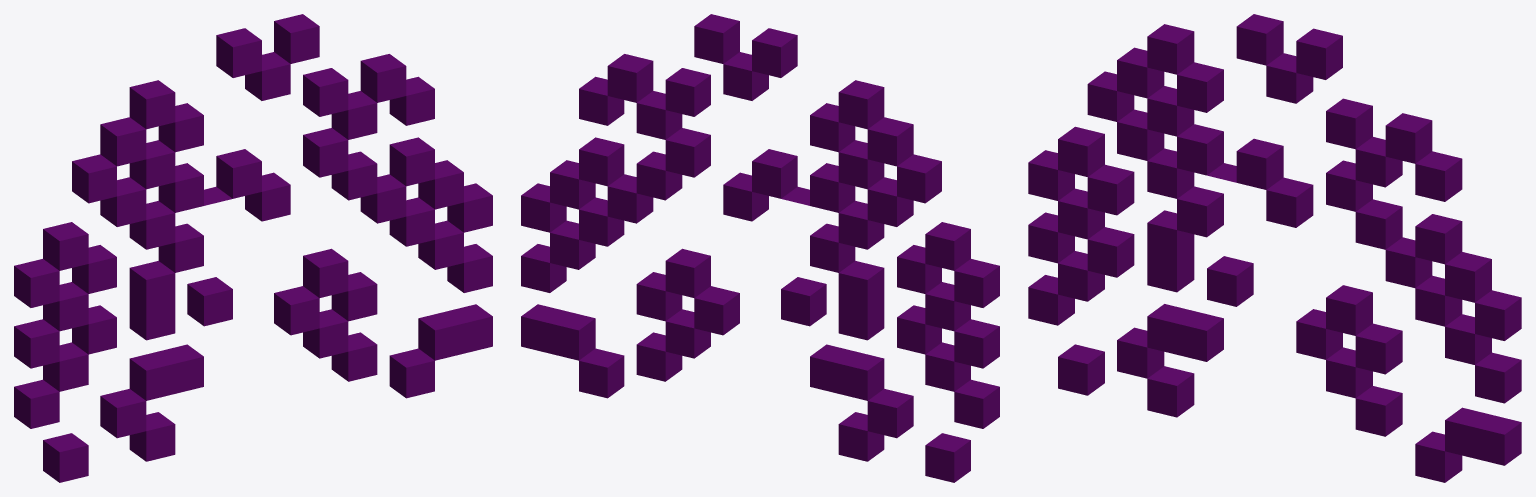
The model's file is invader_base_4.obj.
3 views of the same model, side by side, from view 1: azimuth 30°, elevation 25°; view 2: azimuth 150°, elevation 25°; view 3: azimuth 330°, elevation 25° (orthographic). The views are drawn at different scales.
Visible parts, largest first — view 1: Cube; view 2: Cube; view 3: Cube.
Boxes of the visible parts, left/top/right/bottom form: Cube: left=14, top=14, right=492, bottom=482; Cube: left=521, top=14, right=999, bottom=482; Cube: left=1028, top=14, right=1521, bottom=482.
Size of the model in its own units: 16 by 13.01 by 1.
